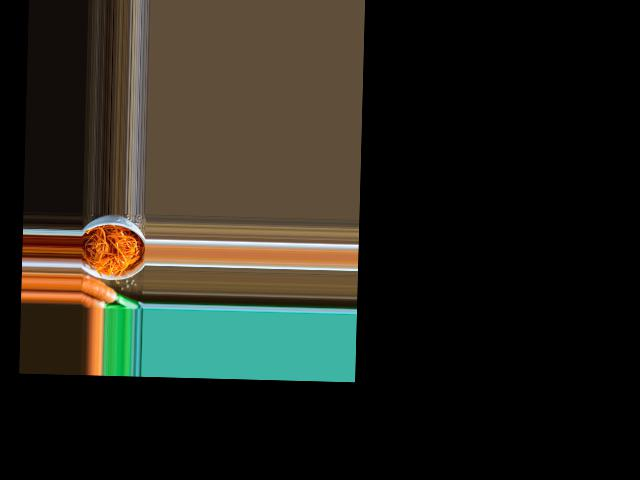carrot: (81, 279, 119, 301)
